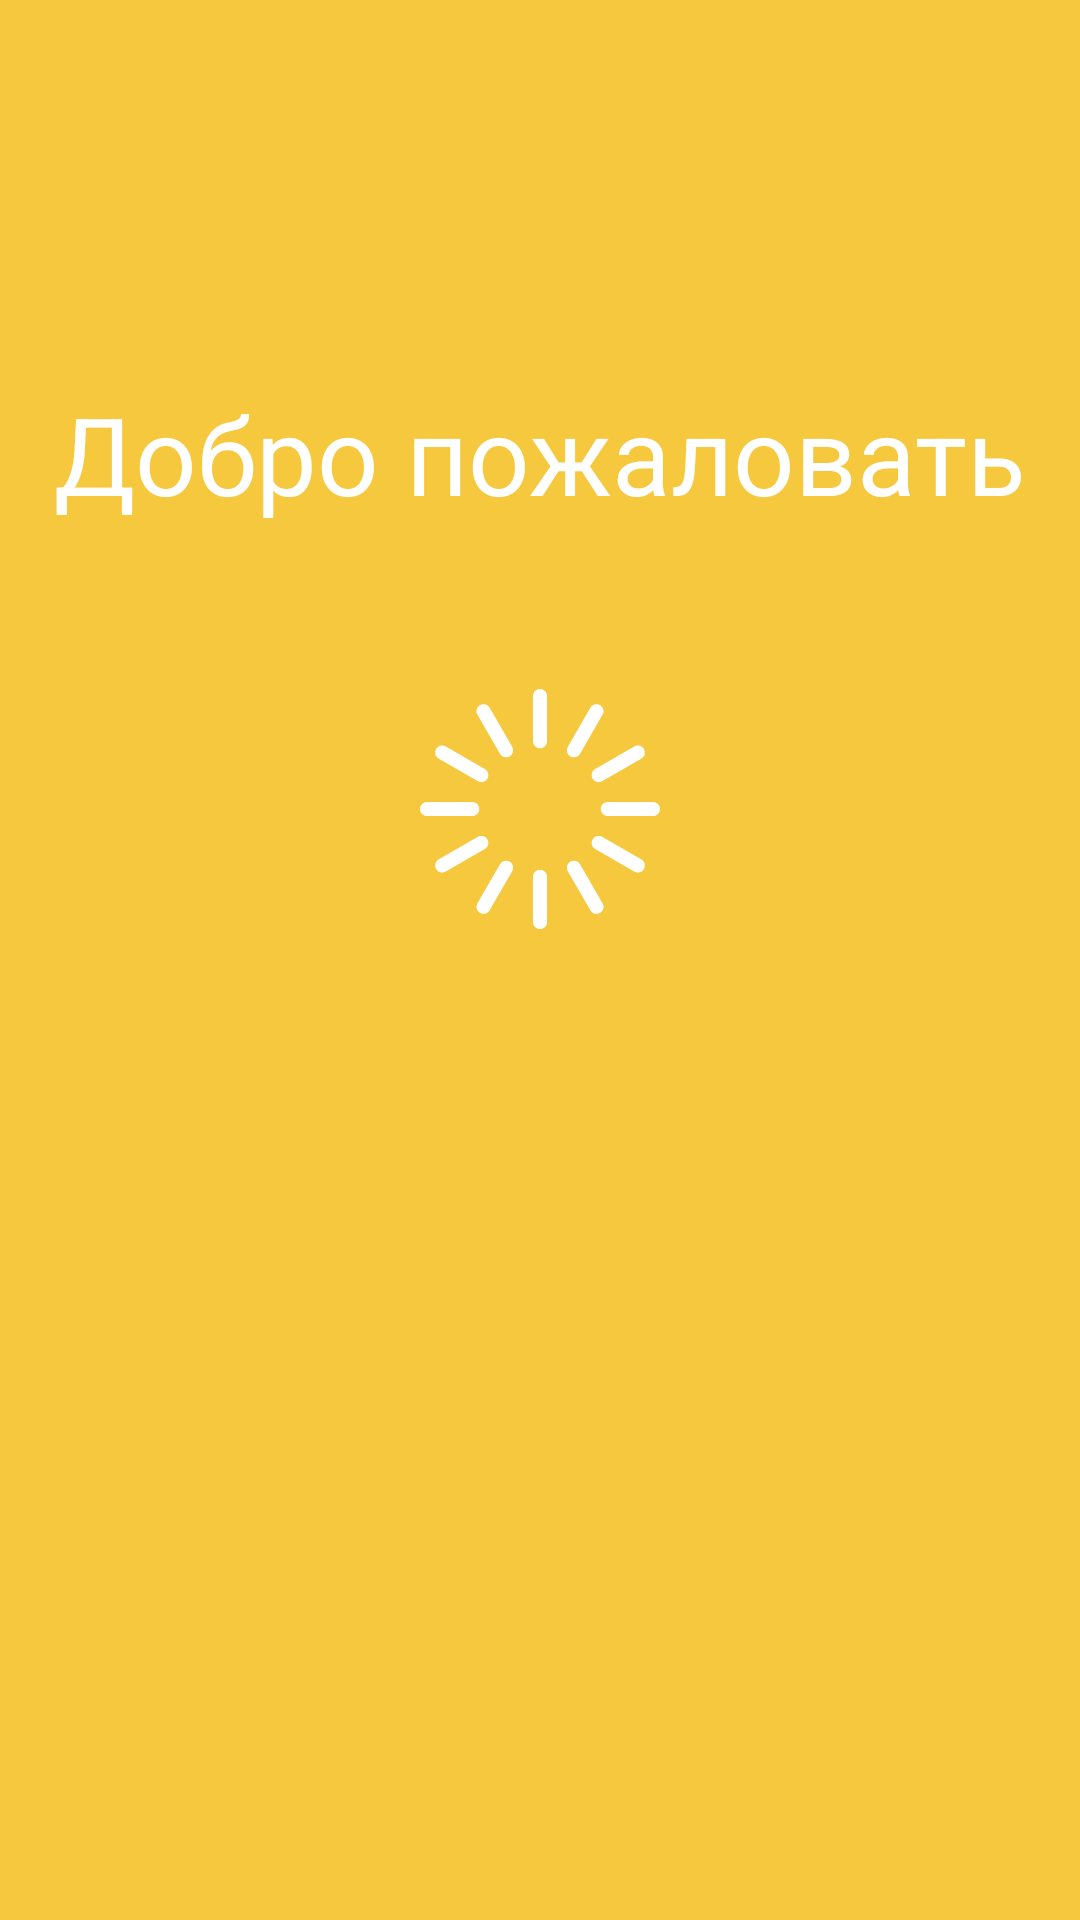

Icon click points for this 1080px×1920px phone screenshot, format (x,y):
loading: (540,809)
